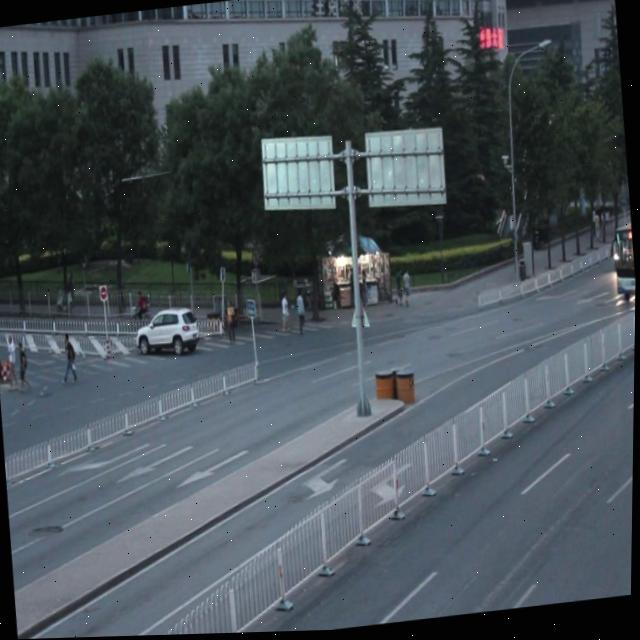car: (135, 304, 202, 361)
van: (607, 219, 637, 307)
